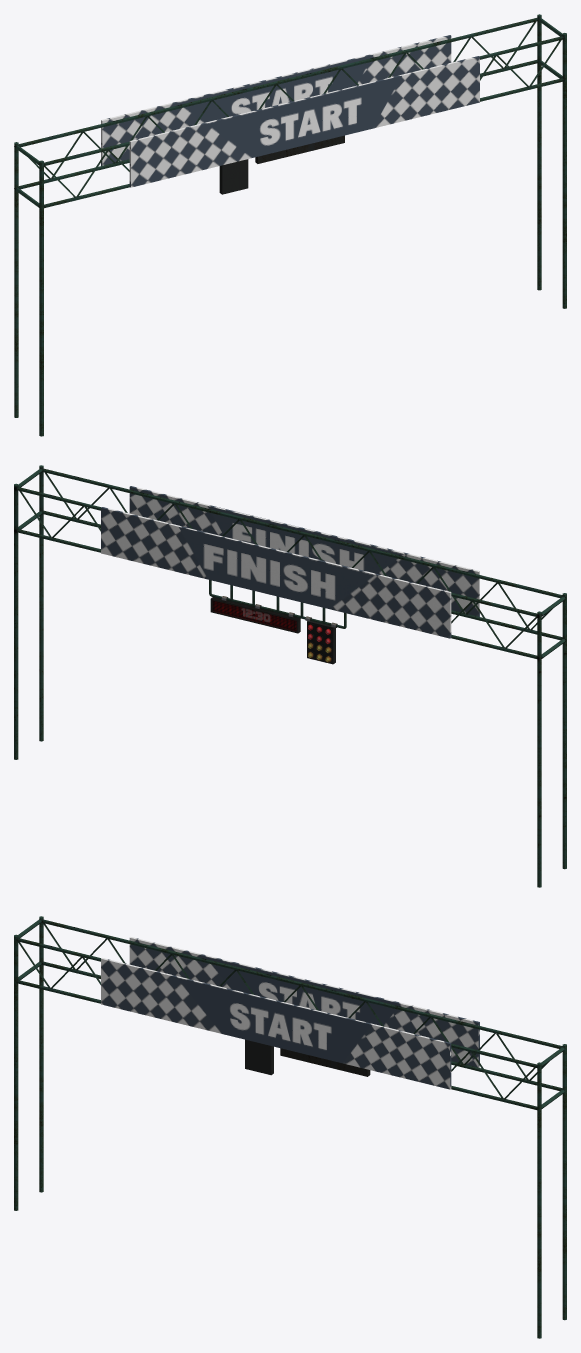
File: Checkpointboard_05.fbx
The picture shows the model from 3 angles, top to bottom: view 1: azimuth 30°, elevation 25°; view 2: azimuth 150°, elevation 25°; view 3: azimuth 330°, elevation 25°; orthographic projection.
Parts seen in each view (by area): view 1: Board_01, Stand, Board_02; view 2: Board_02, Stand, Board_01; view 3: Board_01, Stand, Board_02.
Part boxes in pixels (<box>): Board_01: <box>129,56,479,187</box>; Stand: <box>14,14,566,436</box>; Board_02: <box>101,35,451,165</box>; Board_02: <box>101,507,451,638</box>; Stand: <box>14,465,566,887</box>; Board_01: <box>129,486,479,616</box>; Board_01: <box>101,958,451,1089</box>; Stand: <box>14,916,566,1338</box>; Board_02: <box>129,937,479,1067</box>.
Size of the model in its own units: 1.77 by 0.8765 by 0.1785.
